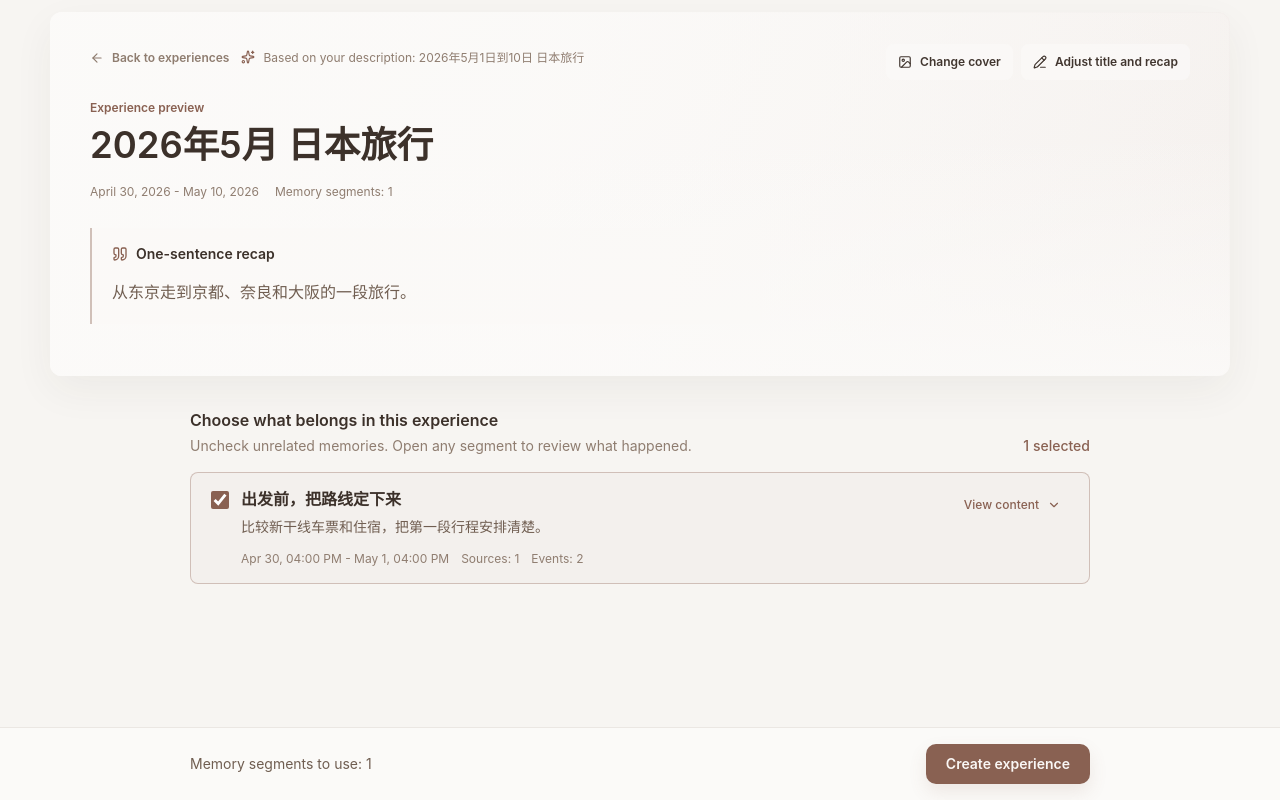
MemoryEpisodesPage › starts with a read-only preview and reveals editing controls only on request
The image size is (1280, 800).
Expected: the text "Based on your description: 2026年5月1日到10日 日本旅行" is shown, [264,48,584,68]
Expected: the text "Experience preview" is shown, [90,100,204,115]
Click the button "Adjust title and recap": click(1105, 62) [1021,44,1190,80]
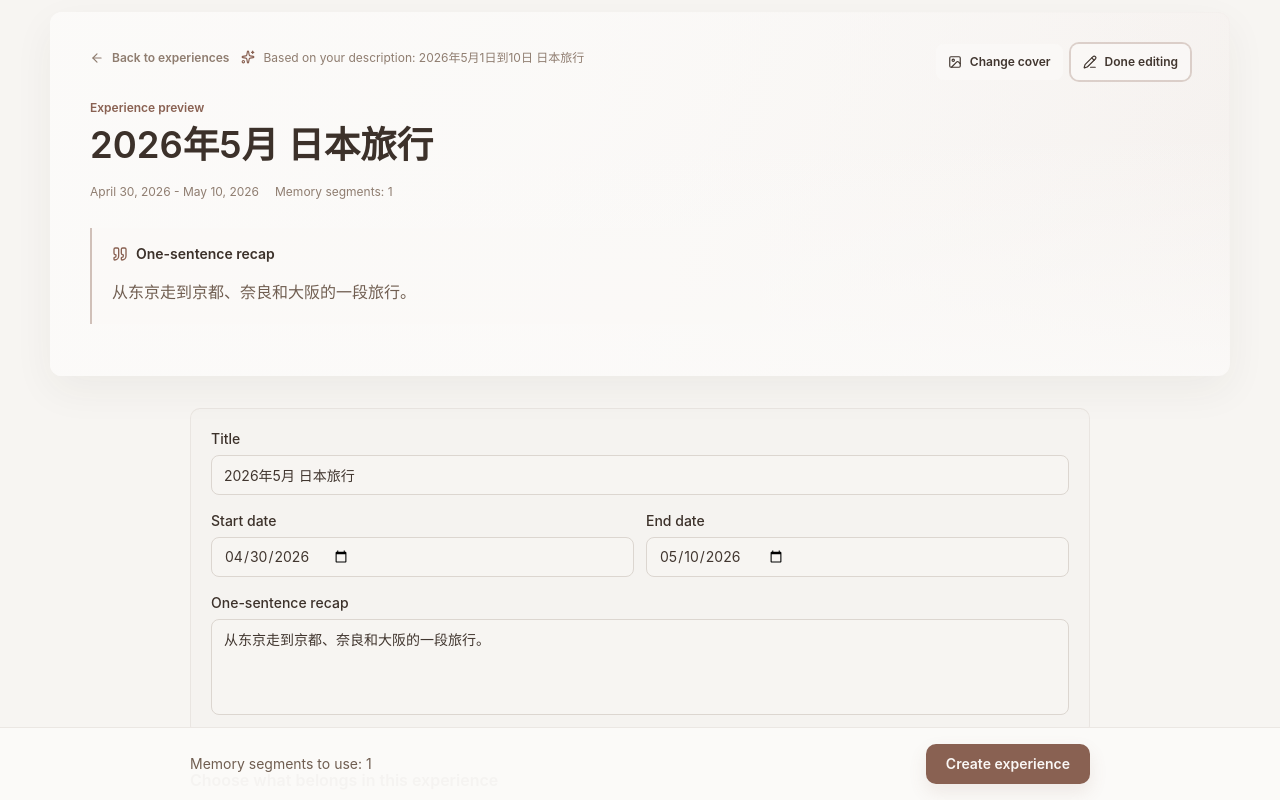
Expected: the field labelled "Title" holds "2026年5月 日本旅行", [211,455,1069,495]
Expected: the date field labelled "Start date" is shown, [211,537,634,577]
Expected: the date field labelled "End date" is shown, [646,537,1069,577]
